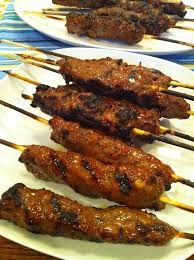kebap: (0, 183, 182, 245), (19, 145, 174, 208), (58, 58, 189, 118), (49, 116, 172, 174), (32, 85, 160, 139)
